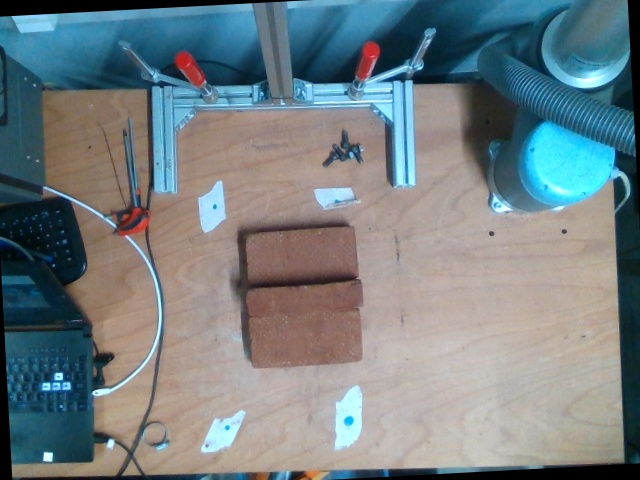brick: (242, 225, 357, 286), (249, 312, 362, 368)
brick-side: (245, 280, 366, 319)
